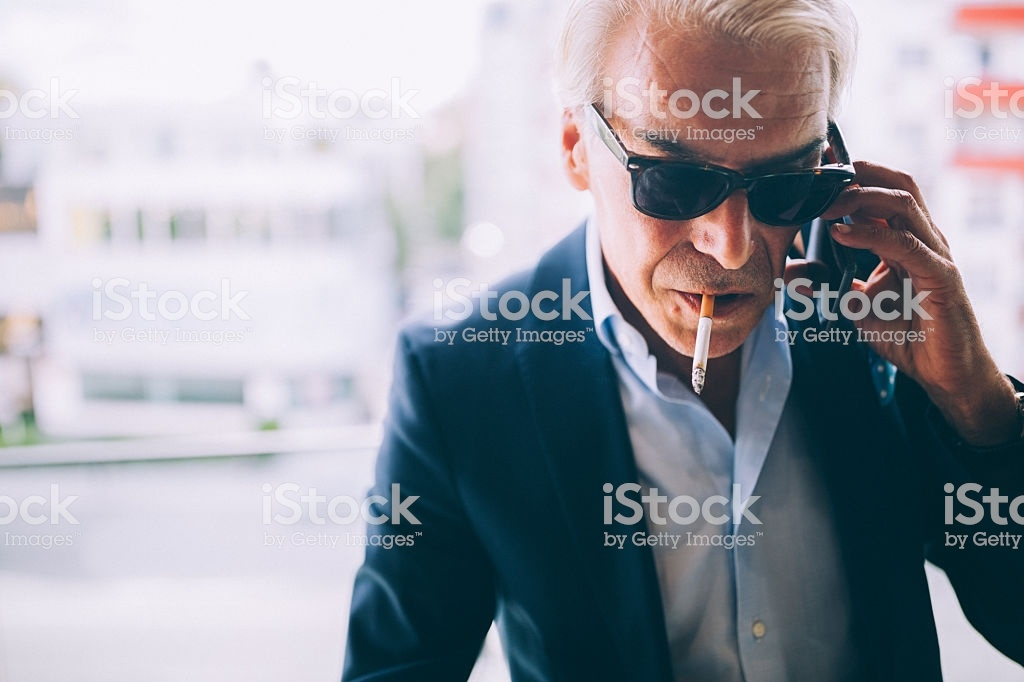sigaretta: (680, 285, 718, 389)
